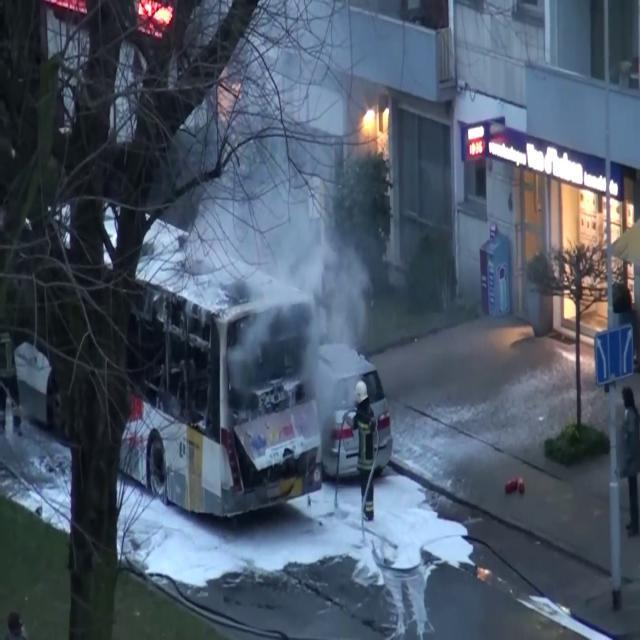Smoke: (167, 12, 389, 456)
